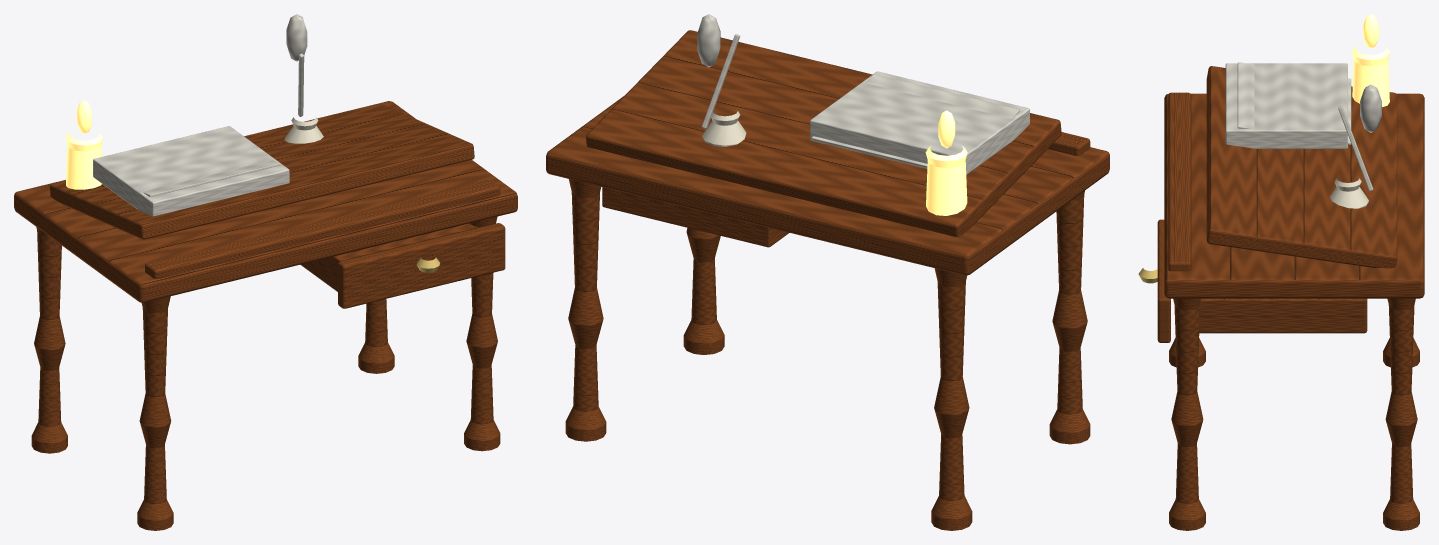
File: witch-cottage-and-apothecary-writing-desk-with-ledger-f0eddba2__32481.glb
3 views of the same model, side by side, from view 1: azimuth 30°, elevation 25°; view 2: azimuth 150°, elevation 25°; view 3: azimuth 270°, elevation 25° (orthographic). The views are drawn at different scales.
Parts seen in each view (by area): view 1: writing-desk-with-ledger, drawer-desk/oak; view 2: writing-desk-with-ledger, drawer-desk/oak; view 3: writing-desk-with-ledger, drawer-desk/oak.
Boxes of the visible parts, x1,y1,x2,y2 form: writing-desk-with-ledger: [14, 14, 517, 530]; drawer-desk/oak: [300, 223, 505, 308]; writing-desk-with-ledger: [546, 14, 1109, 530]; drawer-desk/oak: [602, 187, 789, 247]; writing-desk-with-ledger: [1164, 14, 1424, 530]; drawer-desk/oak: [1157, 219, 1367, 342].
Size of the model in its own units: 1.16 by 1.13 by 0.748.
Materials: 5 (2 with a texture image).
